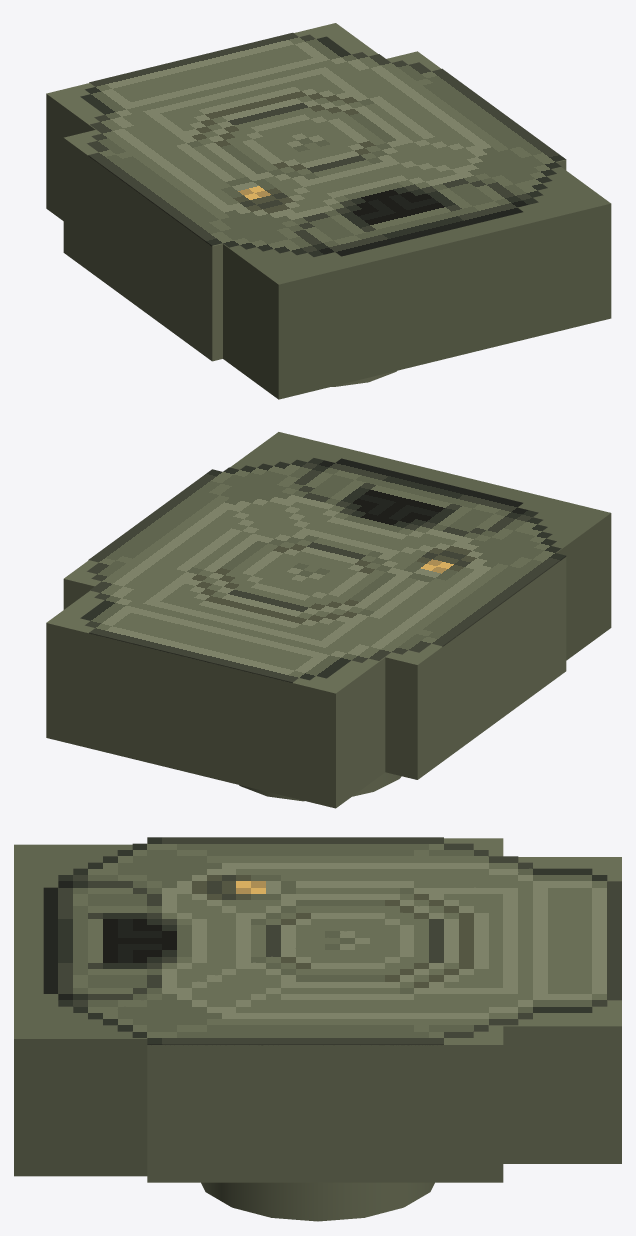
Rendered from CMU3DReduxVehicleSPPAPCTurretMounted.glb.
The picture shows the model from 3 angles, top to bottom: view 1: azimuth 30°, elevation 25°; view 2: azimuth 150°, elevation 25°; view 3: azimuth 270°, elevation 25°; orthographic projection. The views are drawn at different scales.
Parts seen in each view (by area): view 1: turret section (×5), turret original finish; view 2: turret section (×5), turret original finish, turret bearing; view 3: turret original finish, turret section (×5), turret bearing.
Boxes of the visible parts, x1,y1,x2,y2 form: turret section (×5): (46,23,611,399); turret original finish: (80,32,566,256); turret section (×5): (46,432,611,808); turret original finish: (80,458,566,682); turret bearing: (239,772,401,801); turret original finish: (43,837,621,1045); turret section (×5): (14,838,621,1182); turret bearing: (201,1182,434,1221).
Size of the model in its own units: 1.03 by 0.542 by 1.28.
Materials: 3 (1 with a texture image).
